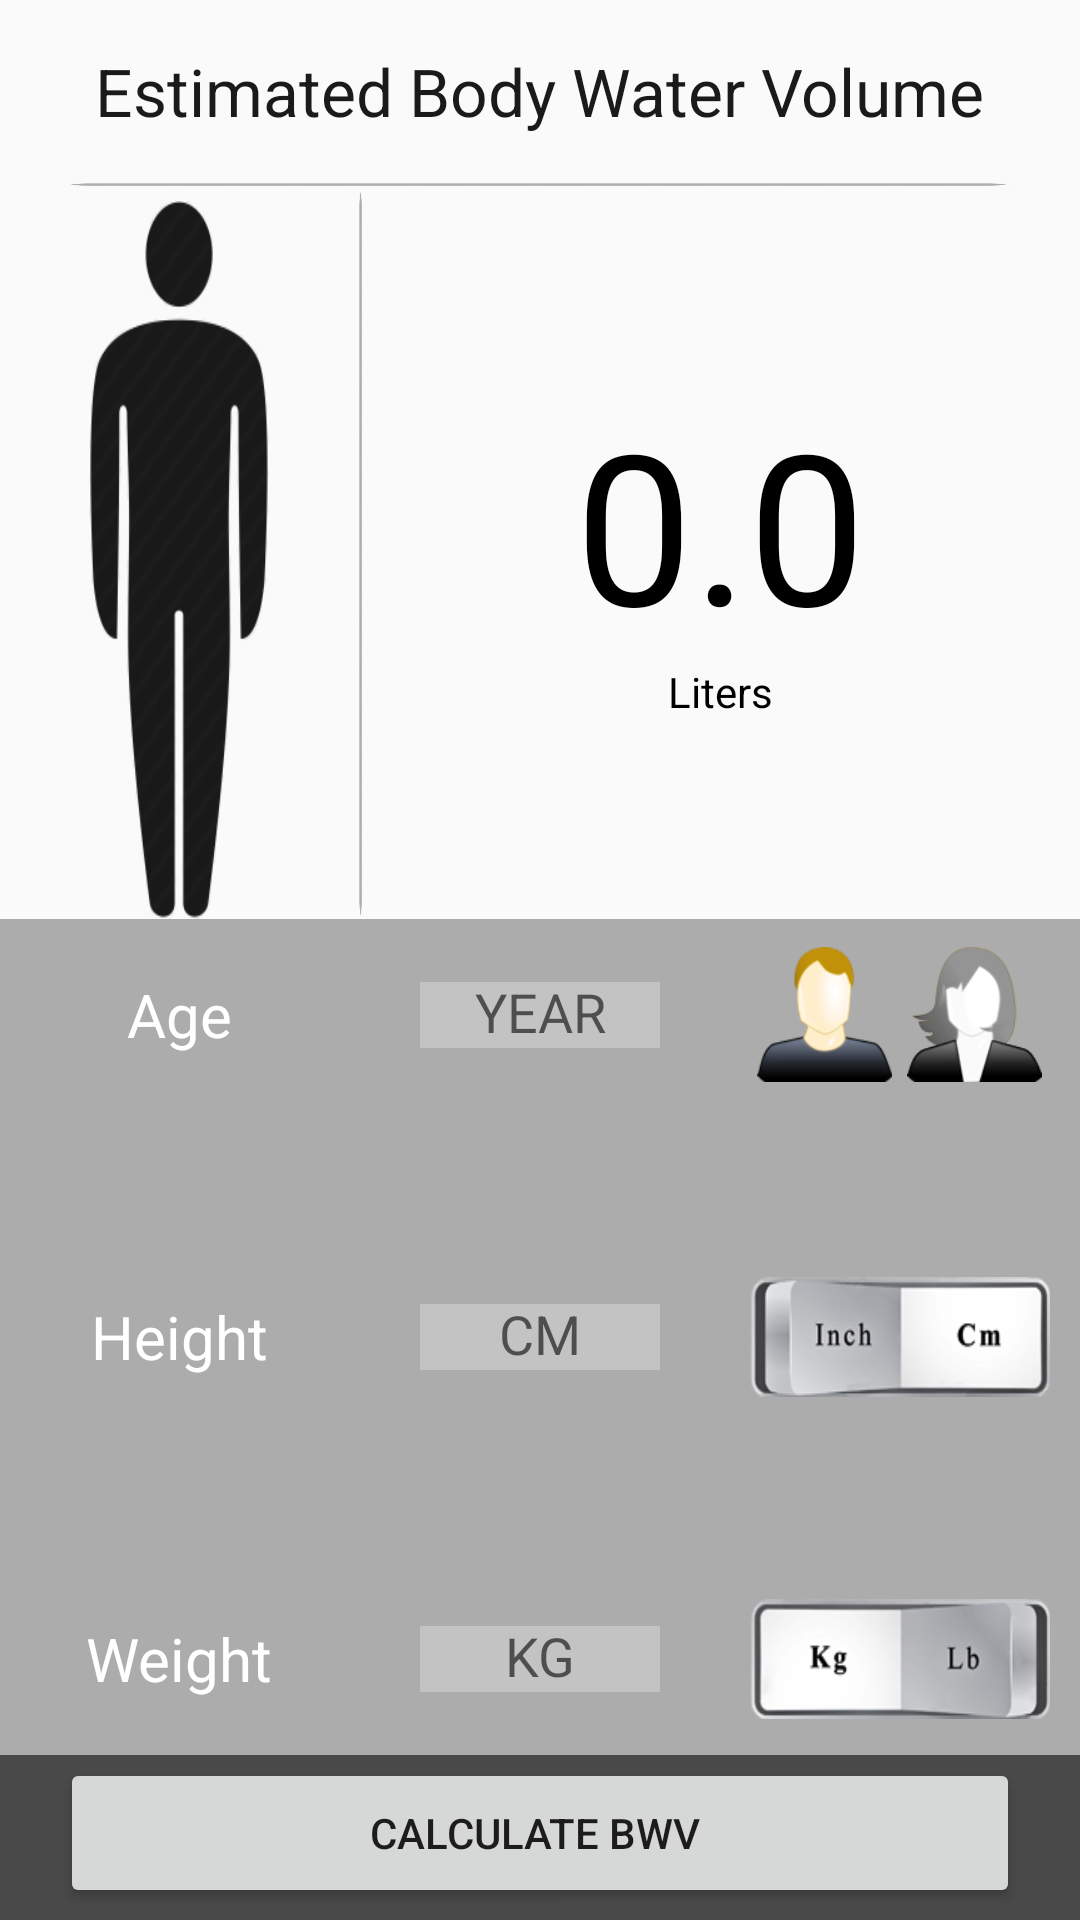

Where to tap for icons on this 1080x1920 app screen, as point (x, y):
female: point (974, 1014)
male select: point (824, 1014)
